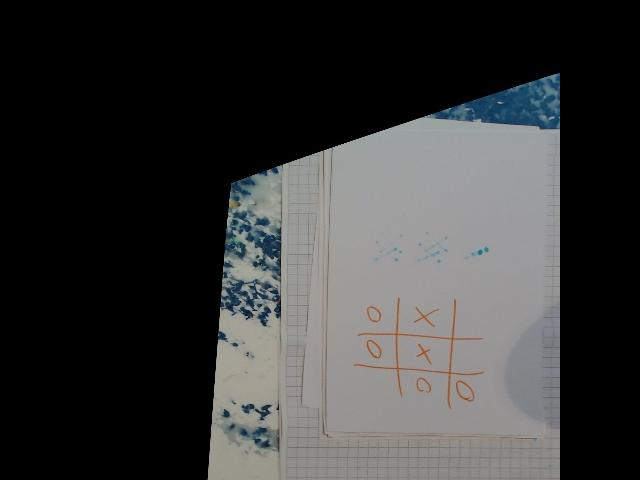O: (452, 376, 478, 402), (363, 302, 388, 326), (364, 337, 387, 361), (413, 374, 433, 396)
X: (411, 304, 439, 330), (414, 341, 438, 365)
grid: (356, 292, 484, 406)
